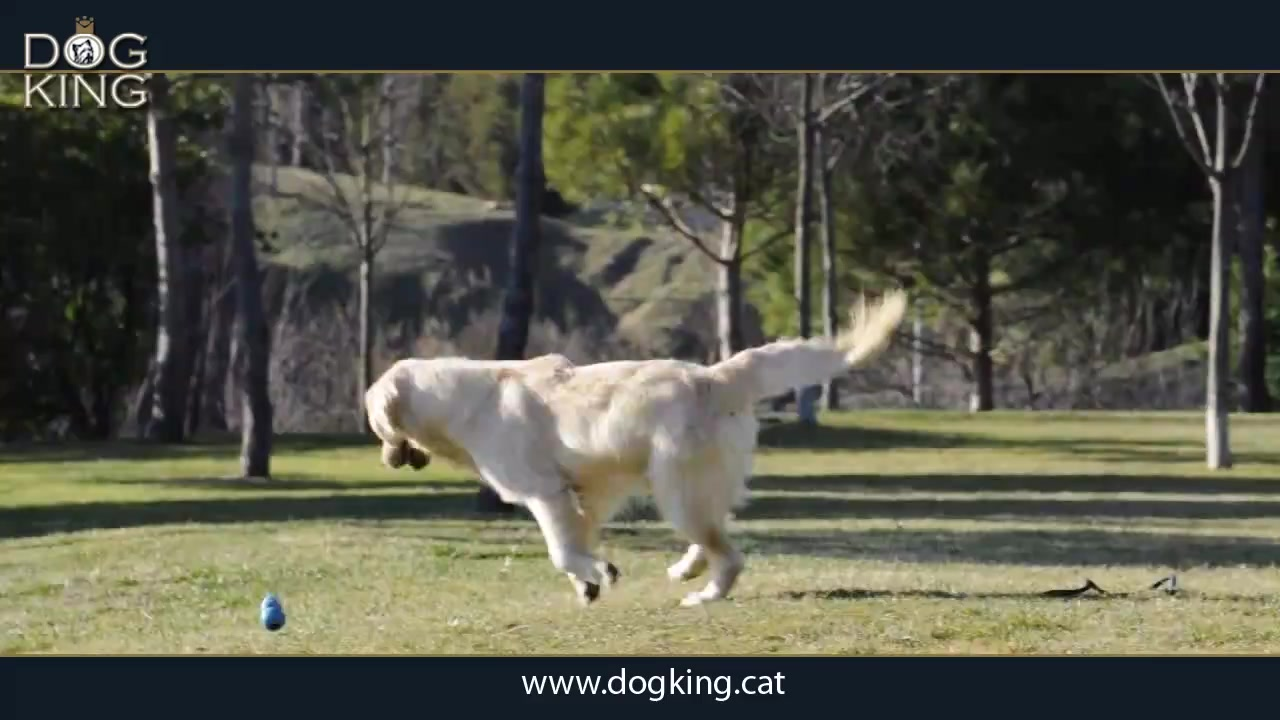dog: (360, 284, 914, 608)
